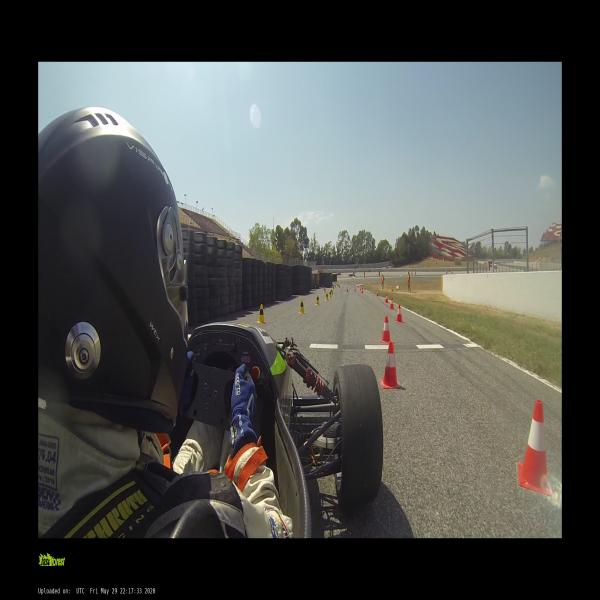orange_cone: (515, 401, 555, 496), (381, 341, 400, 388), (381, 316, 392, 343), (395, 304, 403, 322), (390, 298, 394, 310), (385, 293, 388, 303), (376, 290, 378, 296), (361, 288, 363, 293), (347, 287, 348, 292), (355, 287, 356, 291), (360, 287, 361, 291)
yellow_cone: (258, 304, 266, 323), (298, 298, 306, 314), (315, 295, 320, 305), (325, 292, 329, 301), (329, 290, 332, 298), (331, 288, 333, 294), (324, 287, 326, 293), (322, 284, 324, 290), (315, 285, 316, 290), (333, 285, 334, 289), (336, 285, 337, 289), (339, 284, 340, 288)
